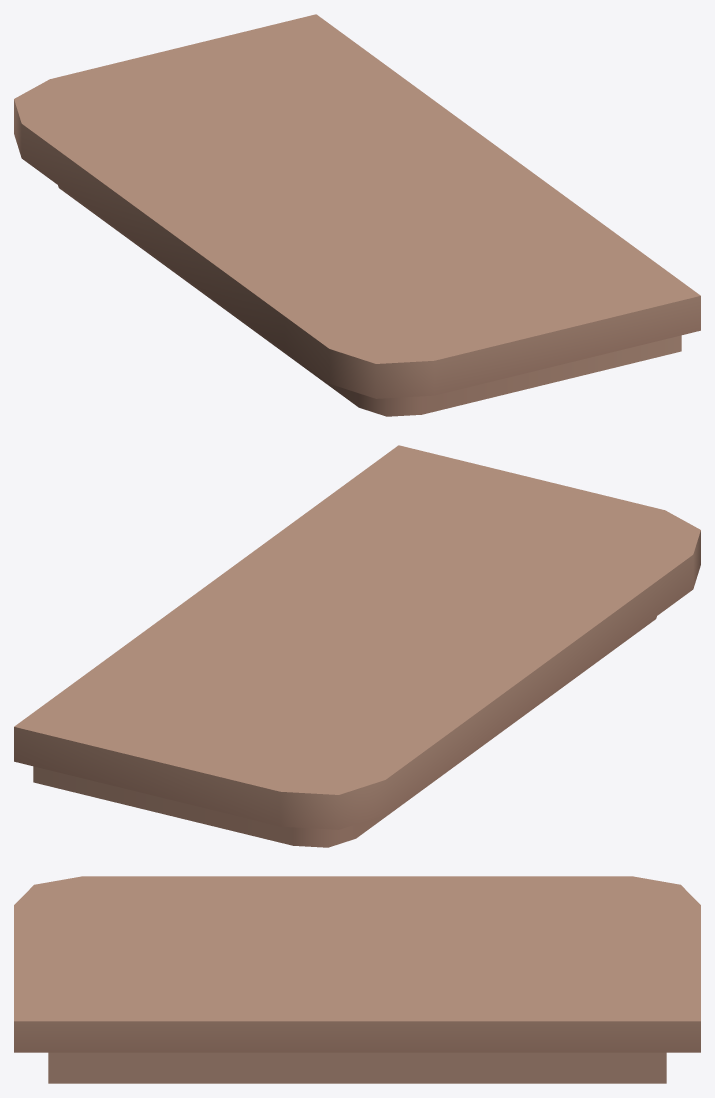
The model's file is half-surface-rounded-edge.glb.
The picture shows the model from 3 angles, top to bottom: view 1: azimuth 30°, elevation 25°; view 2: azimuth 150°, elevation 25°; view 3: azimuth 270°, elevation 25°; orthographic projection. The views are drawn at different scales.
Visible parts, largest first — view 1: half-surface-rounded-edge; view 2: half-surface-rounded-edge; view 3: half-surface-rounded-edge.
Part boxes in pixels (<box>): half-surface-rounded-edge: <box>14,14,700,416</box>; half-surface-rounded-edge: <box>14,445,700,847</box>; half-surface-rounded-edge: <box>14,876,700,1083</box>.
Bounding box in the file's own units: 0.5 × 0.1 × 1.
